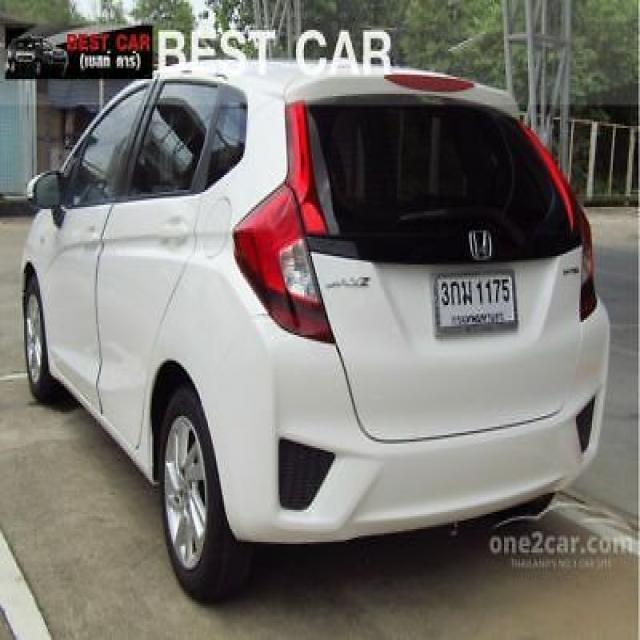Number-Plate: (438, 268, 509, 333)
